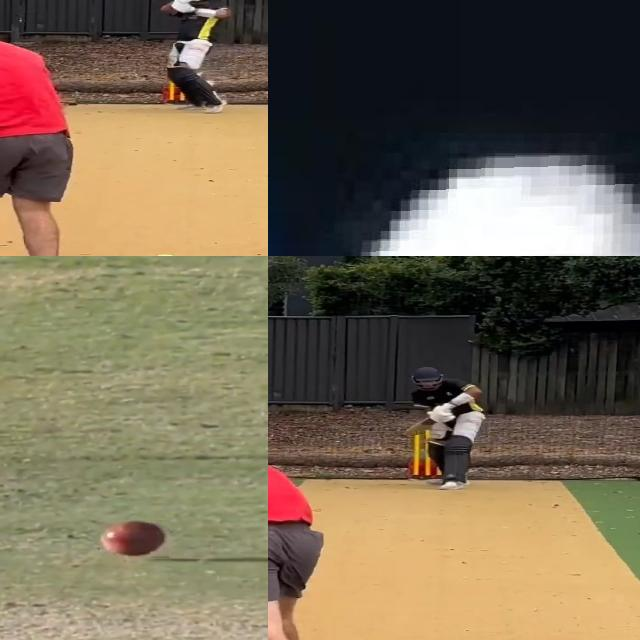Cricket ball: (329, 154, 640, 256), (100, 520, 170, 560)
